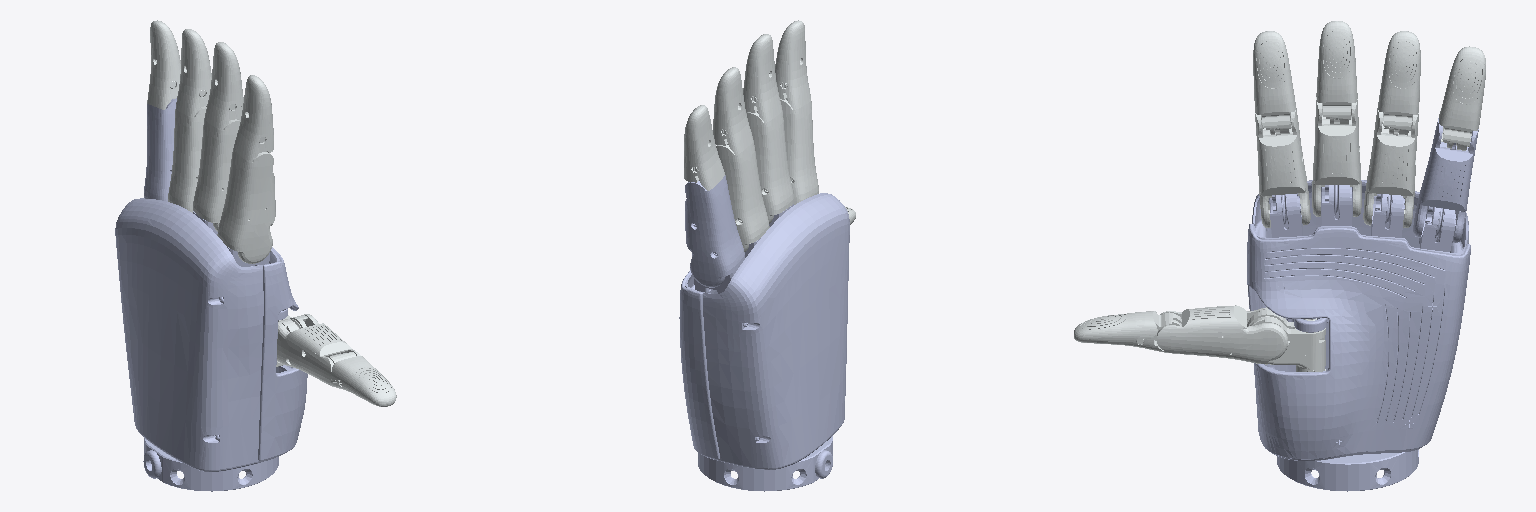
The robot description file, URDF, robot "LG-SG002-URDF-L.SLDASM":
<?xml version="1.0" encoding="utf-8"?>
<!-- This URDF was automatically created by SolidWorks to URDF Exporter! Originally created by Stephen Brawner (brawner@gmail.com) 
     Commit Version: 1.6.0-4-g7f85cfe  Build Version: 1.6.7995.38578
     For more information, please see http://wiki.ros.org/sw_urdf_exporter -->
<robot
  name="LG-SG002-URDF-L.SLDASM">
  <link
    name="hand_l_base_link">
    <inertial>
      <origin
        xyz="0.00014393 0.0032791 0.072577"
        rpy="0 0 0" />
      <mass
        value="0.981" />
      <inertia
        ixx="0.00028046"
        ixy="2.7566E-06"
        ixz="3.6149E-06"
        iyy="0.00016607"
        iyz="-5.1673E-06"
        izz="0.00017073" />
    </inertial>
    <visual>
      <origin
        xyz="0 0 0"
        rpy="0 0 0" />
      <geometry>
        <mesh
          filename="package://LG-SG002-URDF-L.SLDASM/meshes/hand_l_base_link.STL" />
      </geometry>
      <material
        name="">
        <color
          rgba="0.79216 0.81961 0.93333 1" />
      </material>
    </visual>
    <collision>
      <origin
        xyz="0 0 0"
        rpy="0 0 0" />
      <geometry>
        <mesh
          filename="package://LG-SG002-URDF-L.SLDASM/meshes/hand_l_base_link.STL" />
      </geometry>
    </collision>
  </link>
  <link
    name="hand_l_thumb_Link1">
    <inertial>
      <origin
        xyz="-0.010999 4.5578E-05 -0.0068195"
        rpy="0 0 0" />
      <mass
        value="0.025" />
      <inertia
        ixx="1.1917E-06"
        ixy="3.1498E-08"
        ixz="4.0496E-07"
        iyy="2.5046E-06"
        iyz="-2.8213E-08"
        izz="1.8935E-06" />
    </inertial>
    <visual>
      <origin
        xyz="0 0 0"
        rpy="0 0 0" />
      <geometry>
        <mesh
          filename="package://LG-SG002-URDF-L.SLDASM/meshes/hand_l_thumb_Link1.STL" />
      </geometry>
      <material
        name="">
        <color
          rgba="0.89804 0.92157 0.92941 1" />
      </material>
    </visual>
    <collision>
      <origin
        xyz="0 0 0"
        rpy="0 0 0" />
      <geometry>
        <mesh
          filename="package://LG-SG002-URDF-L.SLDASM/meshes/hand_l_thumb_Link1.STL" />
      </geometry>
    </collision>
  </link>
  <joint
    name="hand_l_thumb_joint1"
    type="revolute">
    <origin
      xyz="0.024038 -0.0172 0.073382"
      rpy="0 0 1.5708" />
    <parent
      link="hand_l_base_link" />
    <child
      link="hand_l_thumb_Link1" />
    <axis
      xyz="0 0 1" />
    <limit
      lower="0"
      upper="2.0944"
      effort="0"
      velocity="0" />
  </joint>
  <link
    name="hand_l_thumb_Link2">
    <inertial>
      <origin
        xyz="-0.020106 -0.00071307 -0.00050189"
        rpy="0 0 0" />
      <mass
        value="0.026" />
      <inertia
        ixx="1.1544E-06"
        ixy="-2.2257E-07"
        ixz="2.7842E-08"
        iyy="5.5078E-06"
        iyz="1.4408E-07"
        izz="5.7386E-06" />
    </inertial>
    <visual>
      <origin
        xyz="0 0 0"
        rpy="0 0 0" />
      <geometry>
        <mesh
          filename="package://LG-SG002-URDF-L.SLDASM/meshes/hand_l_thumb_Link2.STL" />
      </geometry>
      <material
        name="">
        <color
          rgba="0.89804 0.92157 0.92941 1" />
      </material>
    </visual>
    <collision>
      <origin
        xyz="0 0 0"
        rpy="0 0 0" />
      <geometry>
        <mesh
          filename="package://LG-SG002-URDF-L.SLDASM/meshes/hand_l_thumb_Link2.STL" />
      </geometry>
    </collision>
  </link>
  <joint
    name="hand_l_thumb_joint2"
    type="revolute">
    <origin
      xyz="-0.019998 -0.00029048 -0.002625"
      rpy="-1.5708 0 0" />
    <parent
      link="hand_l_thumb_Link1" />
    <child
      link="hand_l_thumb_Link2" />
    <axis
      xyz="-0.014524 0 0.99989" />
    <limit
      lower="0"
      upper="1.5708"
      effort="0"
      velocity="0" />
  </joint>
  <link
    name="hand_l_thumb_Link3">
    <inertial>
      <origin
        xyz="-0.02206 0.0020051 -8.9965E-05"
        rpy="0 0 0" />
      <mass
        value="0.022" />
      <inertia
        ixx="4.6091E-07"
        ixy="1.4244E-07"
        ixz="-5.5554E-08"
        iyy="2.1878E-06"
        iyz="1.1932E-08"
        izz="1.9573E-06" />
    </inertial>
    <visual>
      <origin
        xyz="0 0 0"
        rpy="0 0 0" />
      <geometry>
        <mesh
          filename="package://LG-SG002-URDF-L.SLDASM/meshes/hand_l_thumb_Link3.STL" />
      </geometry>
      <material
        name="">
        <color
          rgba="0.89804 0.92157 0.92941 1" />
      </material>
    </visual>
    <collision>
      <origin
        xyz="0 0 0"
        rpy="0 0 0" />
      <geometry>
        <mesh
          filename="package://LG-SG002-URDF-L.SLDASM/meshes/hand_l_thumb_Link3.STL" />
      </geometry>
    </collision>
  </link>
  <joint
    name="hand_l_thumb_joint3"
    type="revolute">
    <origin
      xyz="-0.040982 -0.0039742 -0.0007953"
      rpy="0 0 0" />
    <parent
      link="hand_l_thumb_Link2" />
    <child
      link="hand_l_thumb_Link3" />
    <axis
      xyz="-0.014524 0 0.99989" />
    <limit
      lower="0"
      upper="1.5708"
      effort="0"
      velocity="0" />
  </joint>
  <link
    name="hand_l_index_Link1">
    <inertial>
      <origin
        xyz="0.00071307 -0.020034 -0.0017685"
        rpy="0 0 0" />
      <mass
        value="0.026" />
      <inertia
        ixx="5.5078E-06"
        ixy="2.3246E-07"
        ixz="-1.2752E-07"
        iyy="1.1746E-06"
        iyz="-3.0474E-07"
        izz="5.7184E-06" />
    </inertial>
    <visual>
      <origin
        xyz="0 0 0"
        rpy="0 0 0" />
      <geometry>
        <mesh
          filename="package://LG-SG002-URDF-L.SLDASM/meshes/hand_l_index_Link1.STL" />
      </geometry>
      <material
        name="">
        <color
          rgba="0.89804 0.92157 0.92941 1" />
      </material>
    </visual>
    <collision>
      <origin
        xyz="0 0 0"
        rpy="0 0 0" />
      <geometry>
        <mesh
          filename="package://LG-SG002-URDF-L.SLDASM/meshes/hand_l_index_Link1.STL" />
      </geometry>
    </collision>
  </link>
  <joint
    name="hand_l_index_joint1"
    type="revolute">
    <origin
      xyz="0.0022544 -0.029001 0.12577"
      rpy="-1.5708 0 0" />
    <parent
      link="hand_l_base_link" />
    <child
      link="hand_l_index_Link1" />
    <axis
      xyz="0 -0.087156 0.99619" />
    <limit
      lower="0"
      upper="1.5708"
      effort="0"
      velocity="0" />
  </joint>
  <link
    name="hand_l_index_Link2">
    <inertial>
      <origin
        xyz="-2.9272E-05 -0.017018 -0.0012702"
        rpy="0 0 0" />
      <mass
        value="0.022" />
      <inertia
        ixx="2.1929E-06"
        ixy="-1.412E-07"
        ixz="-2.2253E-08"
        iyy="4.82E-07"
        iyz="-1.6379E-07"
        izz="1.9505E-06" />
    </inertial>
    <visual>
      <origin
        xyz="0 0 0"
        rpy="0 0 0" />
      <geometry>
        <mesh
          filename="package://LG-SG002-URDF-L.SLDASM/meshes/hand_l_index_Link2.STL" />
      </geometry>
      <material
        name="">
        <color
          rgba="0.89804 0.92157 0.92941 1" />
      </material>
    </visual>
    <collision>
      <origin
        xyz="0 0 0"
        rpy="0 0 0" />
      <geometry>
        <mesh
          filename="package://LG-SG002-URDF-L.SLDASM/meshes/hand_l_index_Link2.STL" />
      </geometry>
    </collision>
  </link>
  <joint
    name="hand_l_index_joint2"
    type="revolute">
    <origin
      xyz="0.002 -0.044829 -0.003922"
      rpy="0 0 0" />
    <parent
      link="hand_l_index_Link1" />
    <child
      link="hand_l_index_Link2" />
    <axis
      xyz="0 -0.087156 0.99619" />
    <limit
      lower="0"
      upper="1.5708"
      effort="0"
      velocity="0" />
  </joint>
  <link
    name="hand_l_middle_Link1">
    <inertial>
      <origin
        xyz="0.00071308 -0.020112 -1.5738E-05"
        rpy="0 0 0" />
      <mass
        value="0.026" />
      <inertia
        ixx="5.5078E-06"
        ixy="2.2045E-07"
        ixz="-1.473E-07"
        iyy="1.1562E-06"
        iyz="9.4401E-08"
        izz="5.7368E-06" />
    </inertial>
    <visual>
      <origin
        xyz="0 0 0"
        rpy="0 0 0" />
      <geometry>
        <mesh
          filename="package://LG-SG002-URDF-L.SLDASM/meshes/hand_l_middle_Link1.STL" />
      </geometry>
      <material
        name="">
        <color
          rgba="0.89804 0.92157 0.92941 1" />
      </material>
    </visual>
    <collision>
      <origin
        xyz="0 0 0"
        rpy="0 0 0" />
      <geometry>
        <mesh
          filename="package://LG-SG002-URDF-L.SLDASM/meshes/hand_l_middle_Link1.STL" />
      </geometry>
    </collision>
  </link>
  <joint
    name="hand_l_middle_joint1"
    type="revolute">
    <origin
      xyz="0.0022544 -0.005 0.13076"
      rpy="-1.5708 0 0" />
    <parent
      link="hand_l_base_link" />
    <child
      link="hand_l_middle_Link1" />
    <axis
      xyz="0 0 1" />
    <limit
      lower="0"
      upper="1.5708"
      effort="0"
      velocity="0" />
  </joint>
  <link
    name="hand_l_middle_Link2">
    <inertial>
      <origin
        xyz="-2.9269E-05 -0.017064 0.00021787"
        rpy="0 0 0" />
      <mass
        value="0.022" />
      <inertia
        ixx="2.1929E-06"
        ixy="-1.426E-07"
        ixz="-9.8617E-09"
        iyy="4.6471E-07"
        iyz="-3.3799E-08"
        izz="1.9678E-06" />
    </inertial>
    <visual>
      <origin
        xyz="0 0 0"
        rpy="0 0 0" />
      <geometry>
        <mesh
          filename="package://LG-SG002-URDF-L.SLDASM/meshes/hand_l_middle_Link2.STL" />
      </geometry>
      <material
        name="">
        <color
          rgba="0.89804 0.92157 0.92941 1" />
      </material>
    </visual>
    <collision>
      <origin
        xyz="0 0 0"
        rpy="0 0 0" />
      <geometry>
        <mesh
          filename="package://LG-SG002-URDF-L.SLDASM/meshes/hand_l_middle_Link2.STL" />
      </geometry>
    </collision>
  </link>
  <joint
    name="hand_l_middle_joint2"
    type="revolute">
    <origin
      xyz="0.002 -0.045 0"
      rpy="0 0 0" />
    <parent
      link="hand_l_middle_Link1" />
    <child
      link="hand_l_middle_Link2" />
    <axis
      xyz="0 0 1" />
    <limit
      lower="0"
      upper="1.5708"
      effort="0"
      velocity="0" />
  </joint>
  <link
    name="hand_l_ring_Link1">
    <inertial>
      <origin
        xyz="0.00071307 -0.020036 0.0017372"
        rpy="0 0 0" />
      <mass
        value="0.026" />
      <inertia
        ixx="5.5078E-06"
        ixy="2.0678E-07"
        ixz="-1.6595E-07"
        iyy="1.2074E-06"
        iyz="4.9068E-07"
        izz="5.6856E-06" />
    </inertial>
    <visual>
      <origin
        xyz="0 0 0"
        rpy="0 0 0" />
      <geometry>
        <mesh
          filename="package://LG-SG002-URDF-L.SLDASM/meshes/hand_l_ring_Link1.STL" />
      </geometry>
      <material
        name="">
        <color
          rgba="0.89804 0.92157 0.92941 1" />
      </material>
    </visual>
    <collision>
      <origin
        xyz="0 0 0"
        rpy="0 0 0" />
      <geometry>
        <mesh
          filename="package://LG-SG002-URDF-L.SLDASM/meshes/hand_l_ring_Link1.STL" />
      </geometry>
    </collision>
  </link>
  <joint
    name="hand_l_ring_joint1"
    type="revolute">
    <origin
      xyz="0.0022544 0.018999 0.12574"
      rpy="-1.5708 0 0" />
    <parent
      link="hand_l_base_link" />
    <child
      link="hand_l_ring_Link1" />
    <axis
      xyz="0 0.087156 0.99619" />
    <limit
      lower="0"
      upper="1.5708"
      effort="0"
      velocity="0" />
  </joint>
  <link
    name="hand_l_ring_Link2">
    <inertial>
      <origin
        xyz="-2.9287E-05 -0.01698 0.0017043"
        rpy="0 0 0" />
      <mass
        value="0.022" />
      <inertia
        ixx="2.1929E-06"
        ixy="-1.4292E-07"
        ixz="2.6048E-09"
        iyy="4.7026E-07"
        iyz="9.7218E-08"
        izz="1.9622E-06" />
    </inertial>
    <visual>
      <origin
        xyz="0 0 0"
        rpy="0 0 0" />
      <geometry>
        <mesh
          filename="package://LG-SG002-URDF-L.SLDASM/meshes/hand_l_ring_Link2.STL" />
      </geometry>
      <material
        name="">
        <color
          rgba="0.89804 0.92157 0.92941 1" />
      </material>
    </visual>
    <collision>
      <origin
        xyz="0 0 0"
        rpy="0 0 0" />
      <geometry>
        <mesh
          filename="package://LG-SG002-URDF-L.SLDASM/meshes/hand_l_ring_Link2.STL" />
      </geometry>
    </collision>
  </link>
  <joint
    name="hand_l_ring_joint2"
    type="revolute">
    <origin
      xyz="0.002 -0.044829 0.003922"
      rpy="0 0 0" />
    <parent
      link="hand_l_ring_Link1" />
    <child
      link="hand_l_ring_Link2" />
    <axis
      xyz="0 0.087156 0.99619" />
    <limit
      lower="0"
      upper="1.5708"
      effort="0"
      velocity="0" />
  </joint>
  <link
    name="hand_l_pinky_Link1">
    <inertial>
      <origin
        xyz="0.00014393 0.0032791 0.072577"
        rpy="0 0 0" />
      <mass
        value="0.026" />
      <inertia
        ixx="0.00028046"
        ixy="2.7566E-06"
        ixz="3.6149E-06"
        iyy="0.00016607"
        iyz="-5.1673E-06"
        izz="0.00017073" />
    </inertial>
    <visual>
      <origin
        xyz="0 0 0"
        rpy="0 0 0" />
      <geometry>
        <mesh
          filename="package://LG-SG002-URDF-L.SLDASM/meshes/hand_l_pinky_Link1.STL" />
      </geometry>
      <material
        name="">
        <color
          rgba="0.79216 0.81961 0.93333 1" />
      </material>
    </visual>
    <collision>
      <origin
        xyz="0 0 0"
        rpy="0 0 0" />
      <geometry>
        <mesh
          filename="package://LG-SG002-URDF-L.SLDASM/meshes/hand_l_pinky_Link1.STL" />
      </geometry>
    </collision>
  </link>
  <joint
    name="hand_l_pinky_joint1"
    type="revolute">
    <origin
      xyz="0.0022544 0.042497 0.11872"
      rpy="-1.5708 0 0" />
    <parent
      link="hand_l_base_link" />
    <child
      link="hand_l_pinky_Link1" />
    <axis
      xyz="0 0.17365 0.98481" />
    <limit
      lower="0"
      upper="1.5708"
      effort="0"
      velocity="0" />
  </joint>
  <link
    name="hand_l_pinky_Link2">
    <inertial>
      <origin
        xyz="-2.9287E-05 -0.016767 0.0031776"
        rpy="0 0 0" />
      <mass
        value="0.022" />
      <inertia
        ixx="2.1929E-06"
        ixy="-1.4215E-07"
        ixz="1.5051E-08"
        iyy="4.9847E-07"
        iyz="2.2528E-07"
        izz="1.934E-06" />
    </inertial>
    <visual>
      <origin
        xyz="0 0 0"
        rpy="0 0 0" />
      <geometry>
        <mesh
          filename="package://LG-SG002-URDF-L.SLDASM/meshes/hand_l_pinky_Link2.STL" />
      </geometry>
      <material
        name="">
        <color
          rgba="0.89804 0.92157 0.92941 1" />
      </material>
    </visual>
    <collision>
      <origin
        xyz="0 0 0"
        rpy="0 0 0" />
      <geometry>
        <mesh
          filename="package://LG-SG002-URDF-L.SLDASM/meshes/hand_l_pinky_Link2.STL" />
      </geometry>
    </collision>
  </link>
  <joint
    name="hand_l_pinky_joint2"
    type="revolute">
    <origin
      xyz="0.002 -0.044316 0.0078142"
      rpy="0 0 0" />
    <parent
      link="hand_l_pinky_Link1" />
    <child
      link="hand_l_pinky_Link2" />
    <axis
      xyz="0 0.17365 0.98481" />
    <limit
      lower="0"
      upper="1.5708"
      effort="0"
      velocity="0" />
  </joint>
</robot>

--- What the picture shows (computed from the rendered views, not written in the file) ---
The picture shows the robot from 3 angles, left to right: view 1: azimuth 30°, elevation 25°; view 2: azimuth 150°, elevation 25°; view 3: azimuth 270°, elevation 25°; orthographic projection.
Model LG-SG002-URDF-L.SLDASM with 12 links and 11 joints (11 revolute), rooted at hand_l_base_link, posed every joint at zero.
Visible links, largest first — view 1: hand_l_base_link, hand_l_index_Link1, hand_l_middle_Link1, hand_l_thumb_Link2, hand_l_ring_Link1, hand_l_pinky_Link1, hand_l_index_Link2, hand_l_middle_Link2, hand_l_ring_Link2, hand_l_pinky_Link2, hand_l_thumb_Link3; view 2: hand_l_base_link, hand_l_pinky_Link1, hand_l_ring_Link1, hand_l_middle_Link1, hand_l_index_Link1, hand_l_ring_Link2, hand_l_middle_Link2, hand_l_pinky_Link2, hand_l_index_Link2; view 3: hand_l_base_link, hand_l_thumb_Link2, hand_l_pinky_Link1, hand_l_index_Link1, hand_l_middle_Link1, hand_l_ring_Link1, hand_l_pinky_Link2, hand_l_ring_Link2, hand_l_index_Link2, hand_l_middle_Link2, hand_l_thumb_Link3, hand_l_thumb_Link1.
Boxes of the visible links, x1,y1,x2,y2 form: hand_l_base_link: [115, 198, 307, 491]; hand_l_index_Link1: [217, 149, 275, 263]; hand_l_middle_Link1: [193, 119, 240, 231]; hand_l_thumb_Link2: [277, 314, 360, 384]; hand_l_ring_Link1: [168, 106, 206, 212]; hand_l_pinky_Link1: [144, 98, 176, 201]; hand_l_index_Link2: [233, 75, 273, 162]; hand_l_middle_Link2: [204, 42, 243, 130]; hand_l_ring_Link2: [176, 29, 211, 117]; hand_l_pinky_Link2: [147, 20, 180, 109]; hand_l_thumb_Link3: [329, 352, 396, 406]; hand_l_base_link: [679, 193, 849, 491]; hand_l_pinky_Link1: [685, 175, 744, 287]; hand_l_ring_Link1: [716, 141, 769, 251]; hand_l_middle_Link1: [746, 111, 793, 223]; hand_l_index_Link1: [780, 99, 818, 204]; hand_l_ring_Link2: [713, 67, 753, 154]; hand_l_middle_Link2: [743, 34, 782, 122]; hand_l_pinky_Link2: [684, 105, 724, 190]; hand_l_index_Link2: [775, 20, 810, 109]; hand_l_base_link: [1247, 180, 1470, 491]; hand_l_thumb_Link2: [1157, 305, 1287, 364]; hand_l_pinky_Link1: [1413, 118, 1478, 242]; hand_l_index_Link1: [1255, 108, 1310, 227]; hand_l_middle_Link1: [1312, 97, 1361, 216]; hand_l_ring_Link1: [1363, 108, 1418, 227]; hand_l_pinky_Link2: [1439, 46, 1485, 150]; hand_l_ring_Link2: [1378, 31, 1420, 135]; hand_l_index_Link2: [1253, 31, 1295, 134]; hand_l_middle_Link2: [1316, 21, 1357, 124]; hand_l_thumb_Link3: [1074, 311, 1181, 352]; hand_l_thumb_Link1: [1247, 309, 1325, 371].
Size in the robot's own frame: 0.0729 by 0.1913 by 0.2269 metres.
12 mesh visuals loaded from 12 distinct referenced files (12 binary STL).
